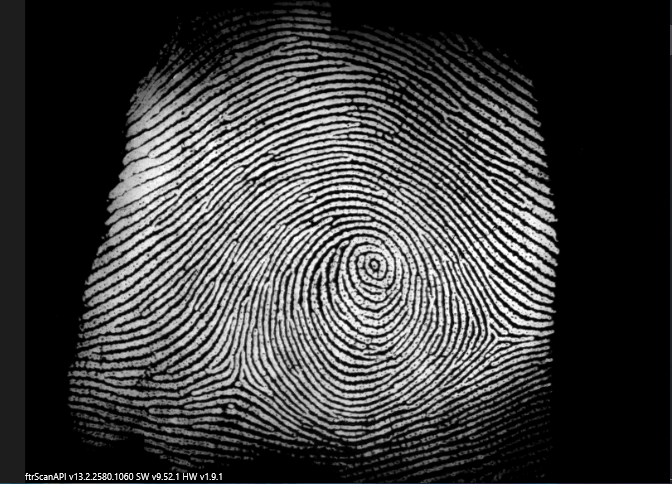deltas: (218, 345, 263, 401), (468, 312, 518, 357)
nucleo: (352, 238, 394, 282)
